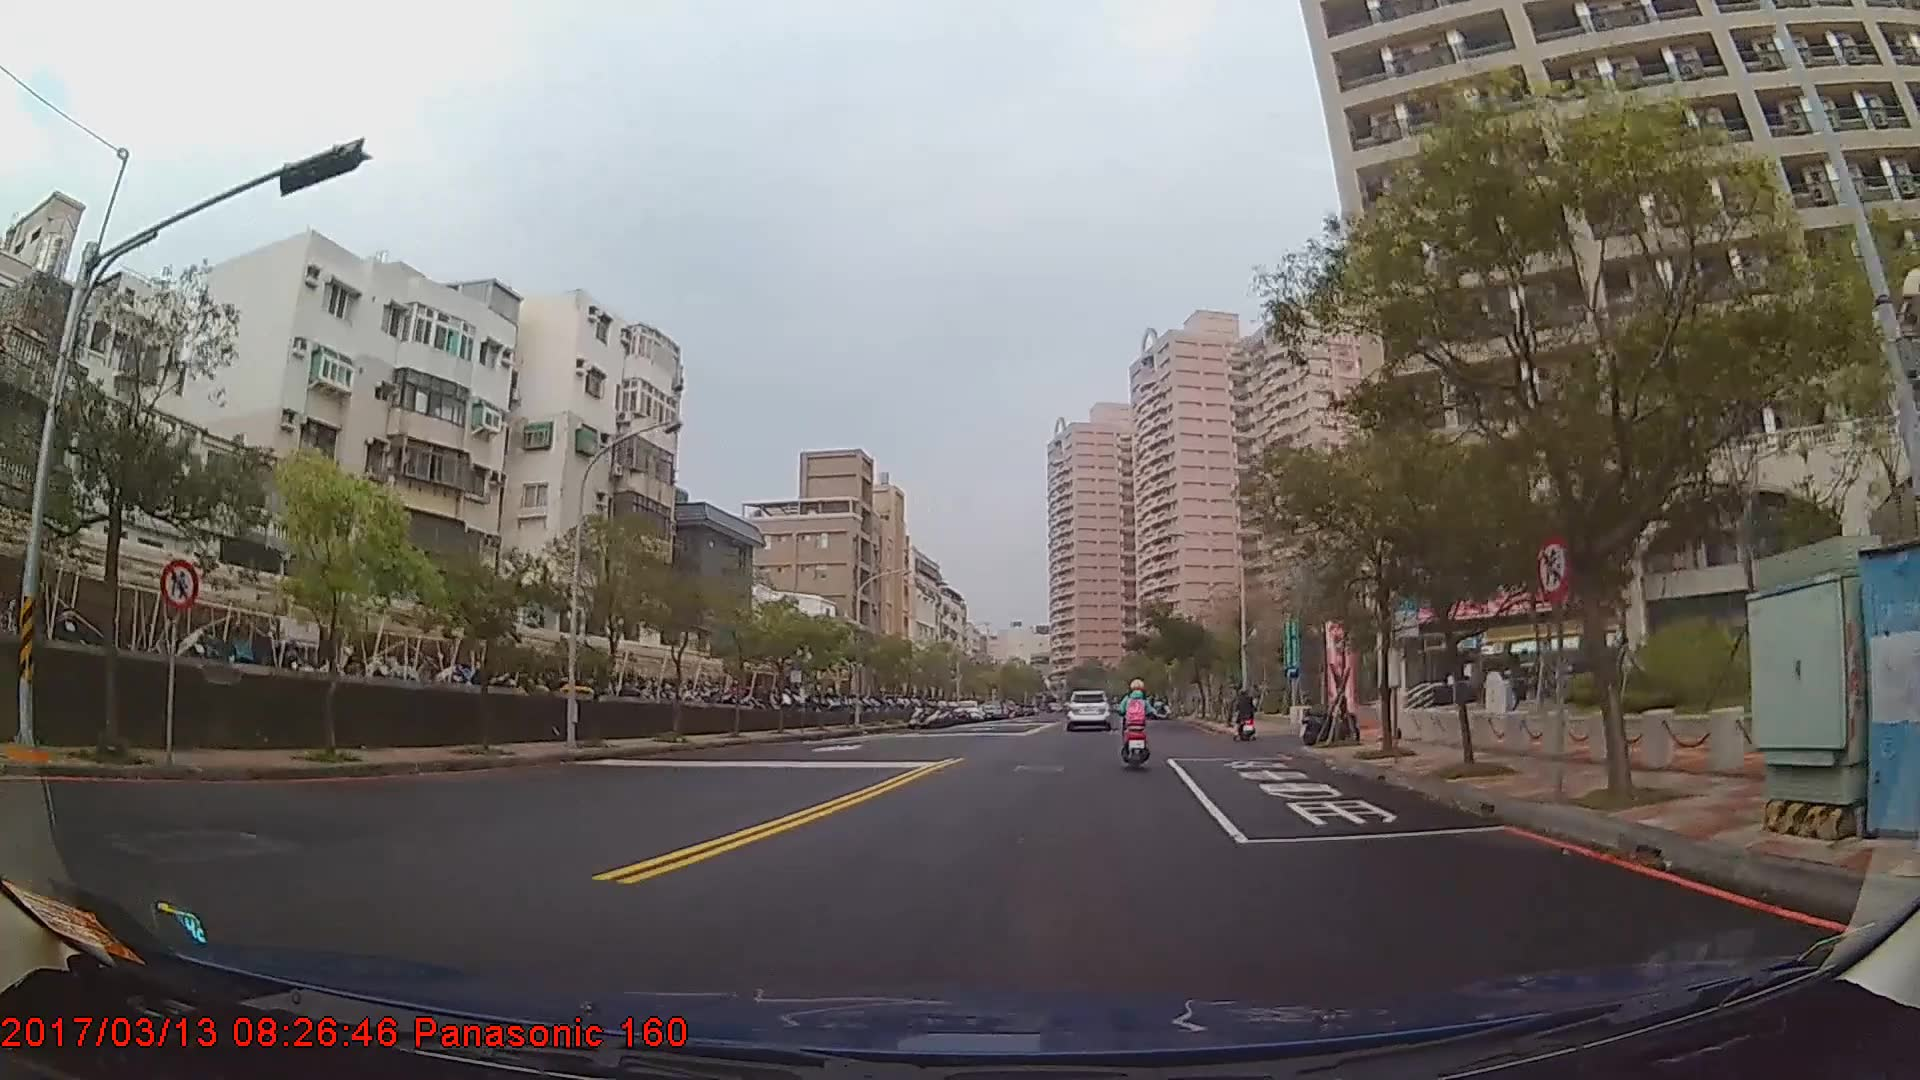rider: (1117, 679, 1163, 764), (1236, 689, 1256, 743)
vehicle: (1064, 689, 1110, 731)
